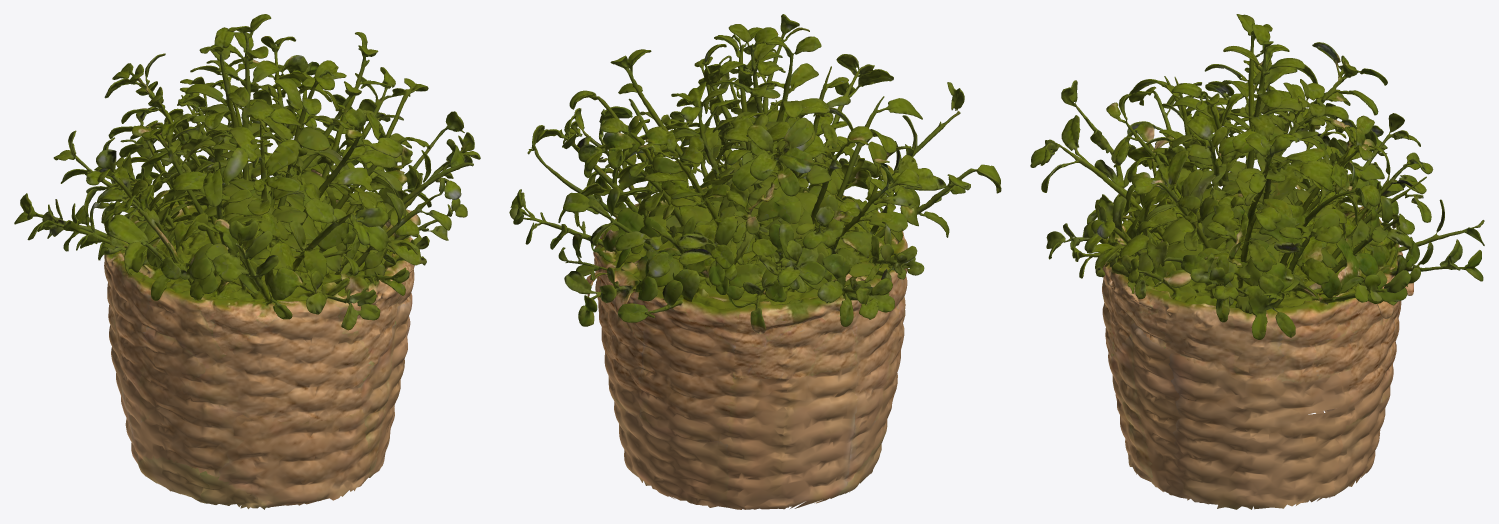
Rendered from bed-nightstand-plant.glb.
3 renders of one model, left to right at view 1: azimuth 30°, elevation 25°; view 2: azimuth 150°, elevation 25°; view 3: azimuth 270°, elevation 25°, orthographic. The views are drawn at different scales.
Visible parts, largest first — view 1: bed-nightstand-plant; view 2: bed-nightstand-plant; view 3: bed-nightstand-plant.
Part boxes in pixels (x1,y1,x2,y2): bed-nightstand-plant: (14,14,480,509); bed-nightstand-plant: (509,14,1001,509); bed-nightstand-plant: (1030,14,1484,509).
Size of the model in its own units: 0.4923 by 0.5042 by 0.4873.
1 material, 1 textured.
